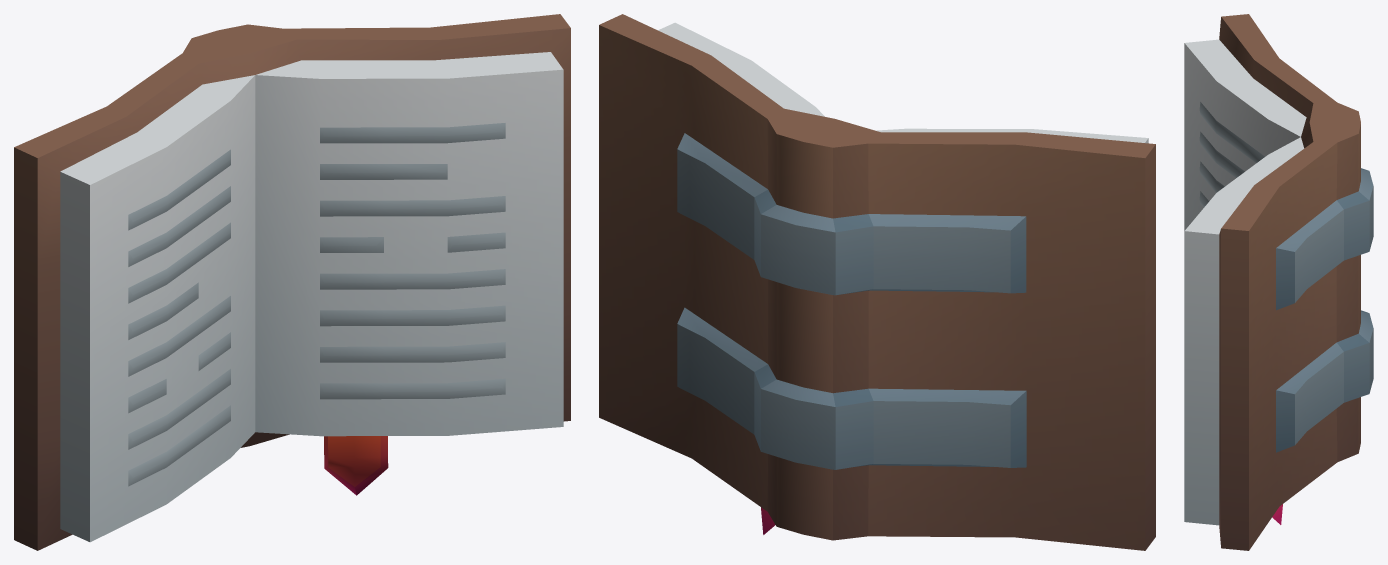
File: journal_open.glb
3 renders of one model, left to right at view 1: azimuth 30°, elevation 25°; view 2: azimuth 150°, elevation 25°; view 3: azimuth 270°, elevation 25°, orthographic. The views are drawn at different scales.
Parts seen in each view (by area): view 1: journal_open; view 2: journal_open; view 3: journal_open.
Part boxes in pixels (<box>): journal_open: <box>14,14,570,550</box>; journal_open: <box>599,14,1155,550</box>; journal_open: <box>1184,14,1373,550</box>.
Bounding box in the file's own units: 0.5632 × 0.4445 × 0.2072.
1 material, 1 textured.
